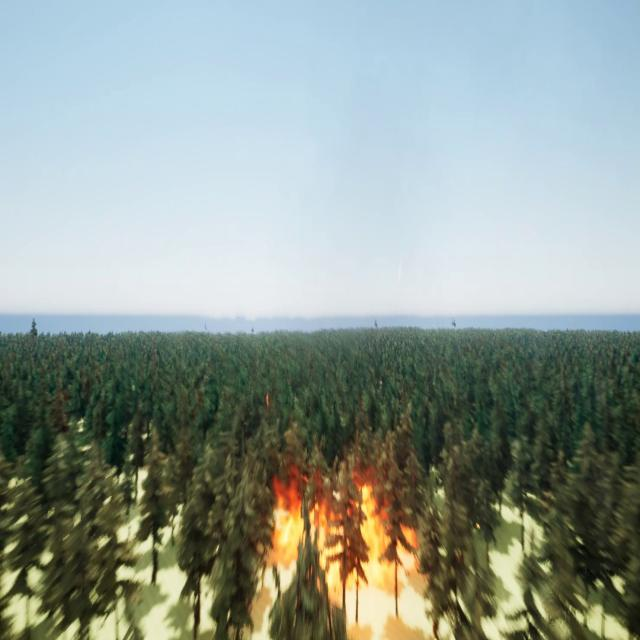fire: (263, 456, 427, 598)
